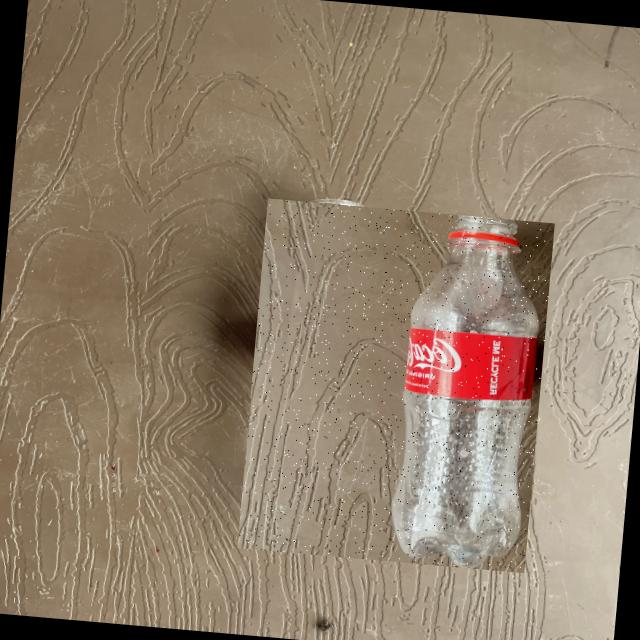REJECT: (236, 197, 553, 572)
